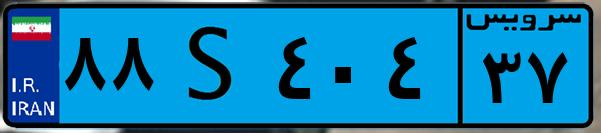0: (330, 28, 385, 110)
3: (475, 38, 525, 113)
4: (270, 28, 330, 110), (385, 28, 445, 110)
7: (525, 38, 570, 115)
8: (57, 26, 110, 100), (110, 28, 158, 98)
S: (158, 12, 270, 120)
